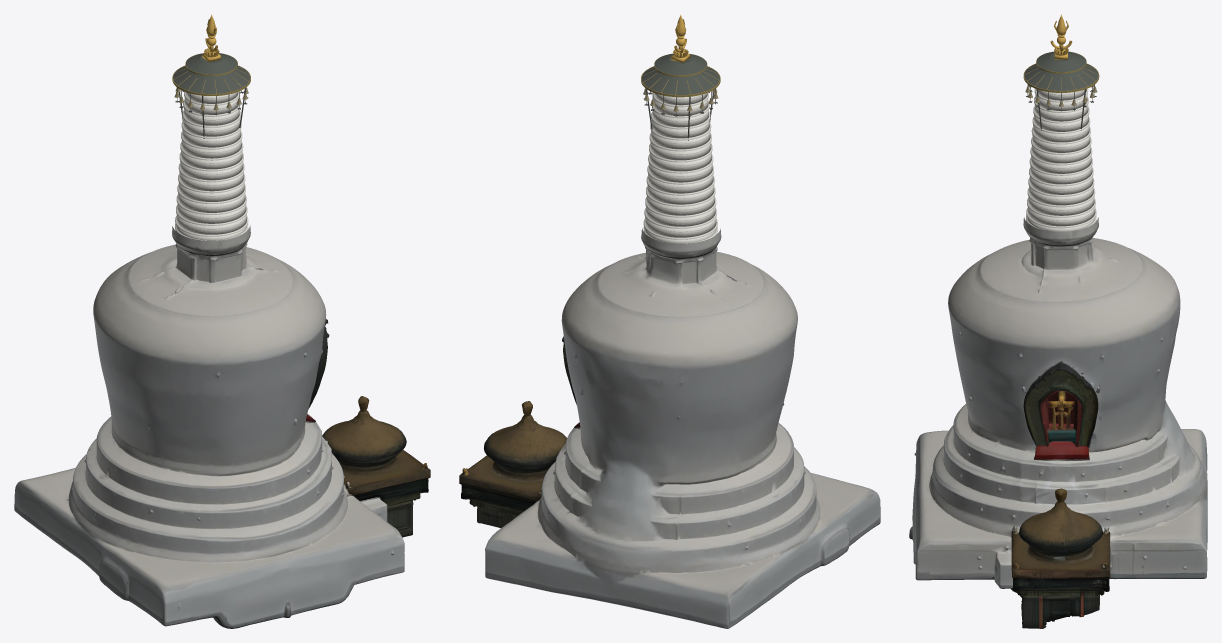
File: detail.glb
3 renders of one model, left to right at view 1: azimuth 30°, elevation 25°; view 2: azimuth 150°, elevation 25°; view 3: azimuth 270°, elevation 25°, orthographic. The views are drawn at different scales.
Parts seen in each view (by area): view 1: Beihai photo referenced lower stupa.001, Beihai white.001, Beihai rim.001, Beihai bronze.001, Beihai plasterJoint, Beihai goldEdge.001; view 2: Beihai photo referenced lower stupa.001, Beihai white.001, Beihai rim.001, Beihai bronze.001, Beihai plasterJoint, Beihai goldEdge.001; view 3: Beihai photo referenced lower stupa.001, Beihai white.001, Beihai rim.001, Beihai bronze.001, Beihai plasterJoint, Beihai goldEdge.001, Beihai gold.001.
Boxes of the visible parts, x1,y1,x2,y2 form: Beihai photo referenced lower stupa.001: (14, 225, 430, 628); Beihai white.001: (175, 92, 248, 240); Beihai rim.001: (175, 91, 248, 236); Beihai bronze.001: (173, 53, 250, 138); Beihai plasterJoint: (176, 92, 246, 232); Beihai goldEdge.001: (172, 53, 250, 95); Beihai photo referenced lower stupa.001: (459, 228, 880, 628); Beihai white.001: (643, 93, 717, 243); Beihai rim.001: (643, 92, 717, 239); Beihai bronze.001: (641, 53, 719, 140); Beihai plasterJoint: (645, 93, 716, 235); Beihai goldEdge.001: (641, 53, 720, 97); Beihai photo referenced lower stupa.001: (909, 217, 1207, 628); Beihai white.001: (1026, 89, 1096, 231); Beihai rim.001: (1026, 88, 1096, 228); Beihai bronze.001: (1024, 51, 1098, 130); Beihai plasterJoint: (1027, 89, 1095, 223); Beihai goldEdge.001: (1023, 51, 1099, 92); Beihai gold.001: (1050, 14, 1072, 59).
Size of the model in its own units: 0.2189 by 0.359 by 0.1833.
8 materials, 1 textured.
